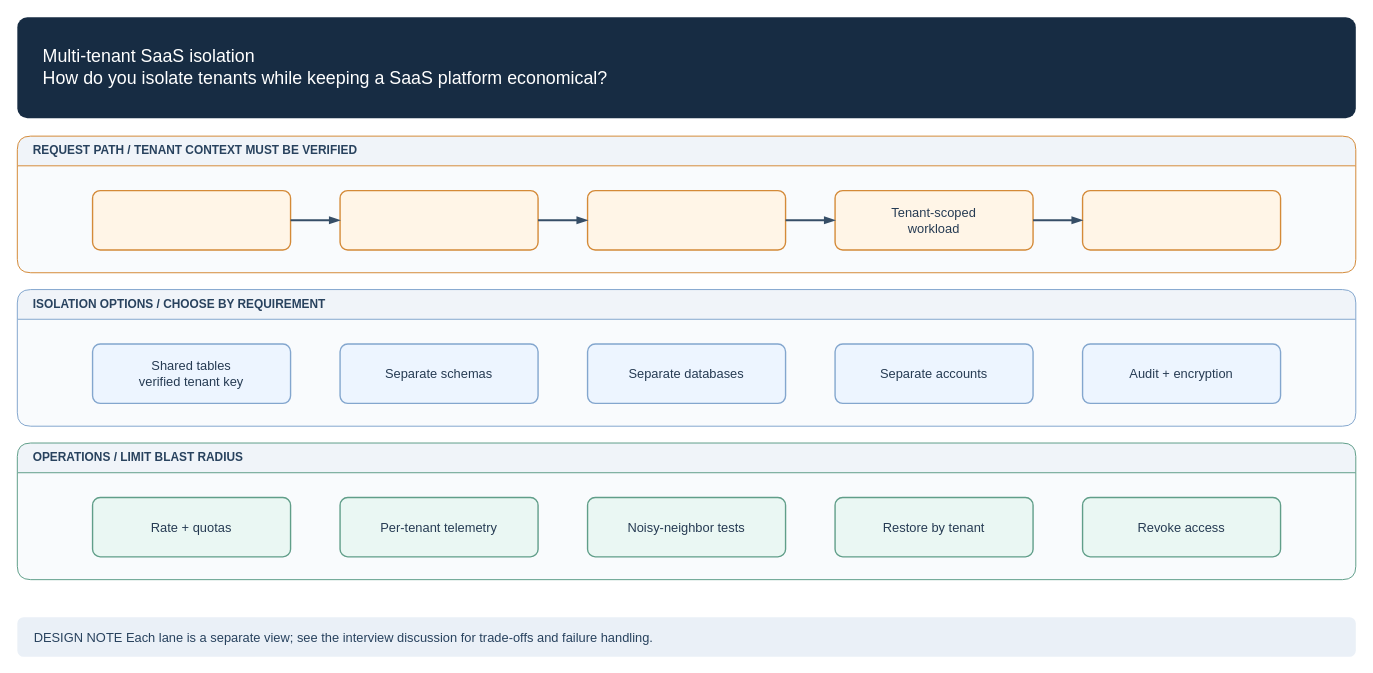
Some shapes in this 1373 by 673 pixel diagram are drawn without their labels. The centre of each missing label's shape, as x and y in pixels:
"Edge + auth" goes at point (438, 219).
"Scoped data access" goes at point (1181, 219).
"Tenant client" goes at point (191, 219).
"Tenant-aware API" goes at point (686, 219).
